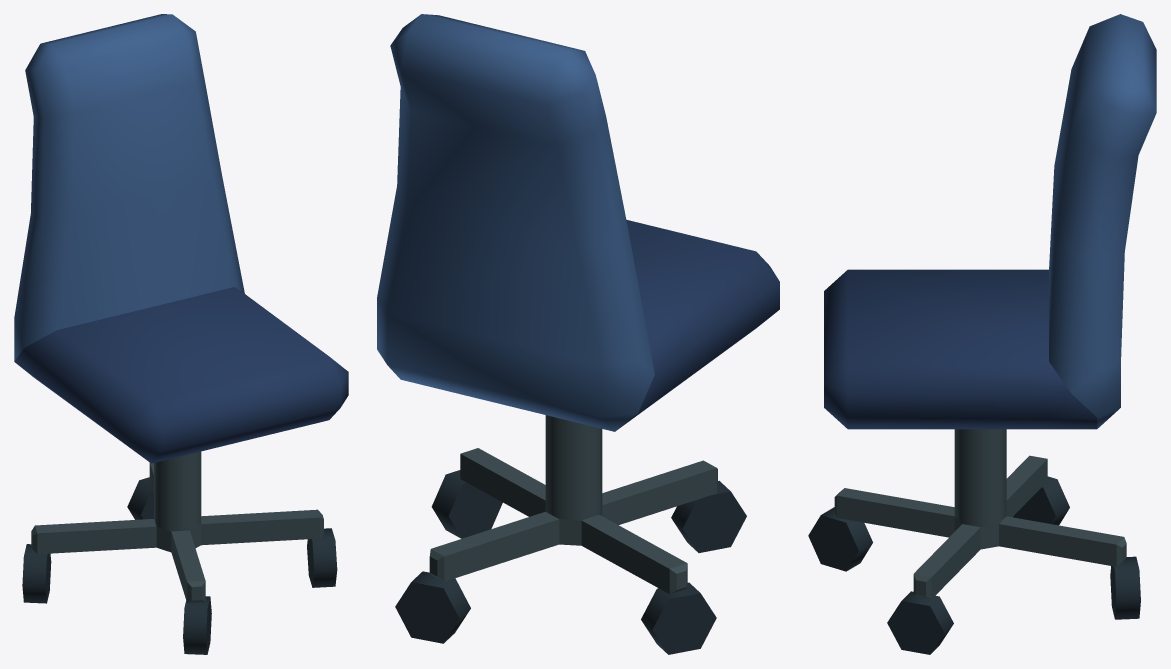
File: ChairOfice.fbx
The picture shows the model from 3 angles, left to right: view 1: azimuth 30°, elevation 25°; view 2: azimuth 150°, elevation 25°; view 3: azimuth 270°, elevation 25°; orthographic projection. The views are drawn at different scales.
Visible parts, largest first — view 1: ChairOfice; view 2: ChairOfice; view 3: ChairOfice.
Part boxes in pixels (<box>): ChairOfice: <box>14,14,348,654</box>; ChairOfice: <box>377,14,779,654</box>; ChairOfice: <box>808,14,1156,654</box>.
Bounding box in the file's own units: 58.59 × 105 × 61.28.
